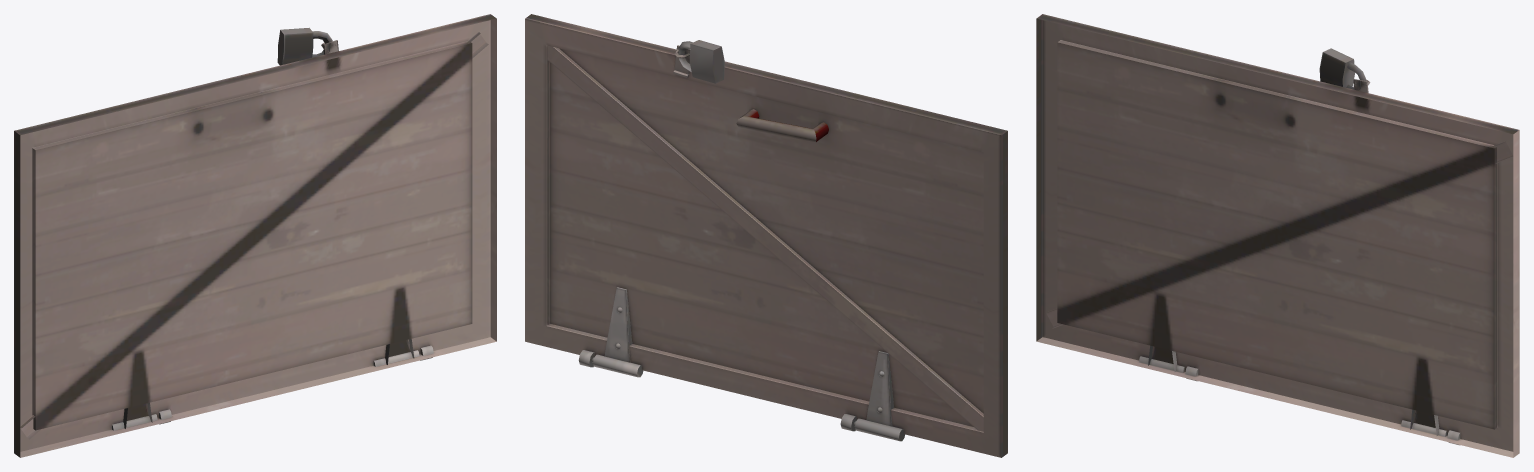
The model's file is props_farm_spawnroom_door_left.glb.
The picture shows the model from 3 angles, left to right: view 1: azimuth 30°, elevation 25°; view 2: azimuth 150°, elevation 25°; view 3: azimuth 330°, elevation 25°; orthographic projection.
Visible parts, largest first — view 1: models/props_farm/spawnroom_door_left; view 2: models/props_farm/spawnroom_door_left; view 3: models/props_farm/spawnroom_door_left.
Boxes of the visible parts, x1,y1,x2,y2 form: models/props_farm/spawnroom_door_left: [14, 14, 496, 457]; models/props_farm/spawnroom_door_left: [525, 14, 1007, 457]; models/props_farm/spawnroom_door_left: [1036, 14, 1519, 457].
Bounding box in the file's own units: 124 × 88.41 × 8.49.
1 material, 1 textured.
